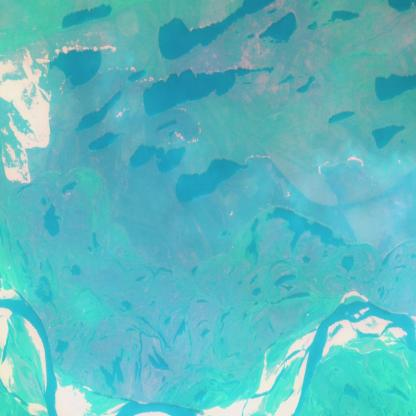fire: (110, 102, 219, 142), (243, 147, 300, 209), (96, 56, 168, 90)
